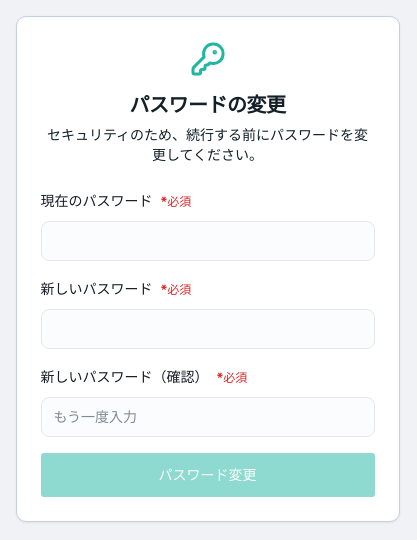
Test case: ChangePasswordView — 送信ボタンの disabled 条件（set-0041 ③） › current/new/confirm が揃い一致すれば有効化される
Type "current-pw" into the password field with id "current-password".
click(208, 241); type("current-pw")  # box top-left (40, 221), bottom-right (374, 261)
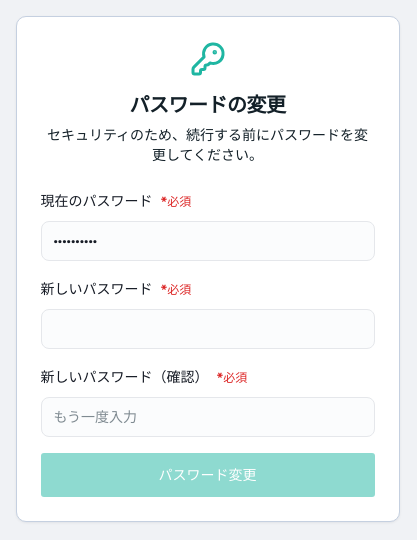
Type "NewPassw0rd!" into the password field with id "new-password".
click(208, 329); type("NewPassw0rd!")  # box top-left (40, 309), bottom-right (374, 349)
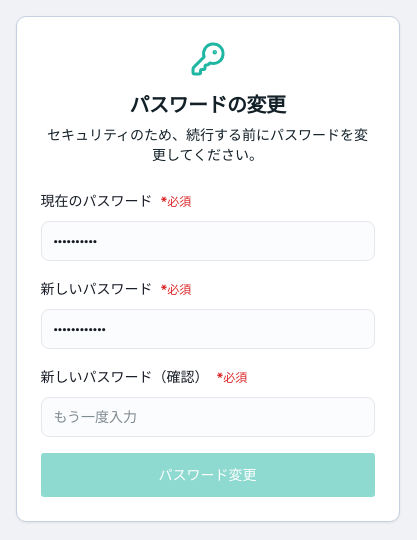
Type "NewPassw0rd!" into the password field with id "confirm-password".
click(208, 417); type("NewPassw0rd!")  # box top-left (40, 397), bottom-right (374, 437)
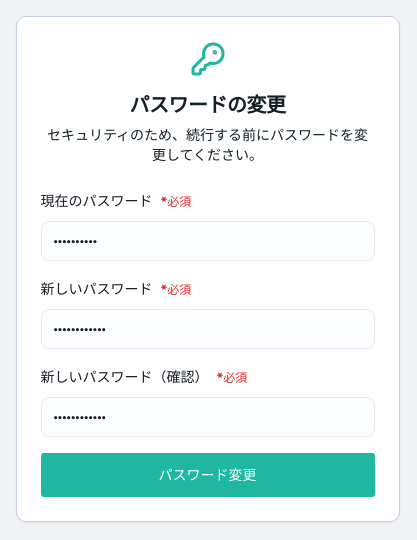
Check: the button "パスワード変更" is enabled, box top-left (40, 453), bottom-right (374, 497)
